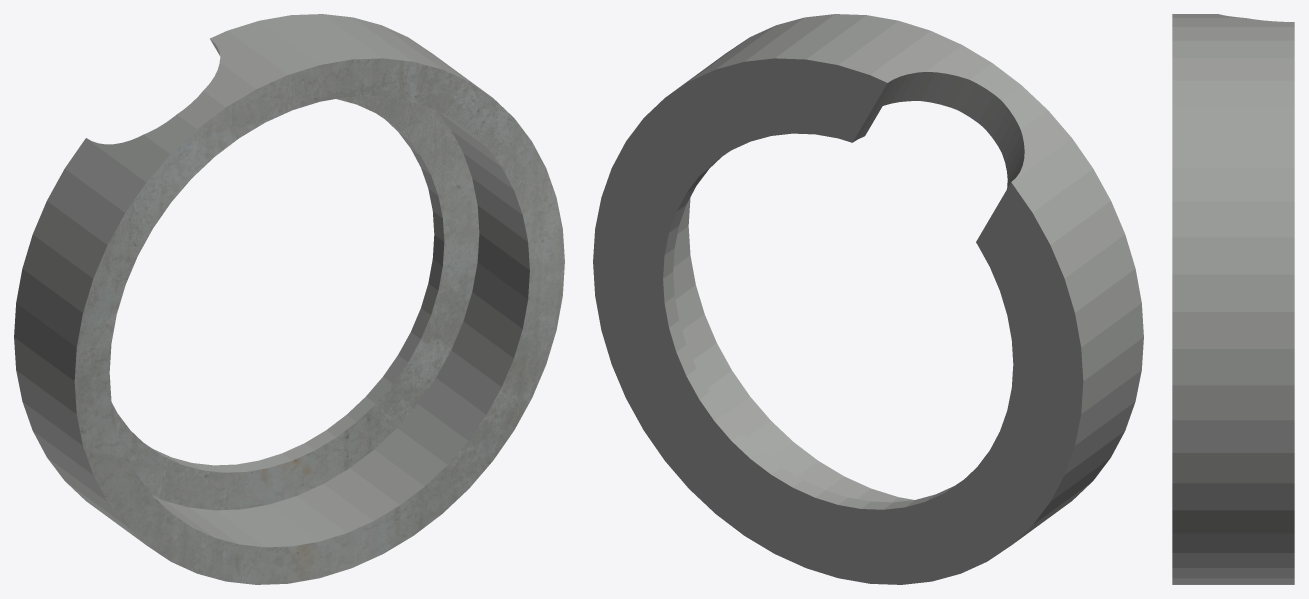
The model's file is pool_003.obj.
3 renders of one model, left to right at view 1: azimuth 30°, elevation 25°; view 2: azimuth 150°, elevation 25°; view 3: azimuth 270°, elevation 25°, orthographic.
Bounding box in the file's own units: 14 × 14 × 3.
1 material, 1 textured.
